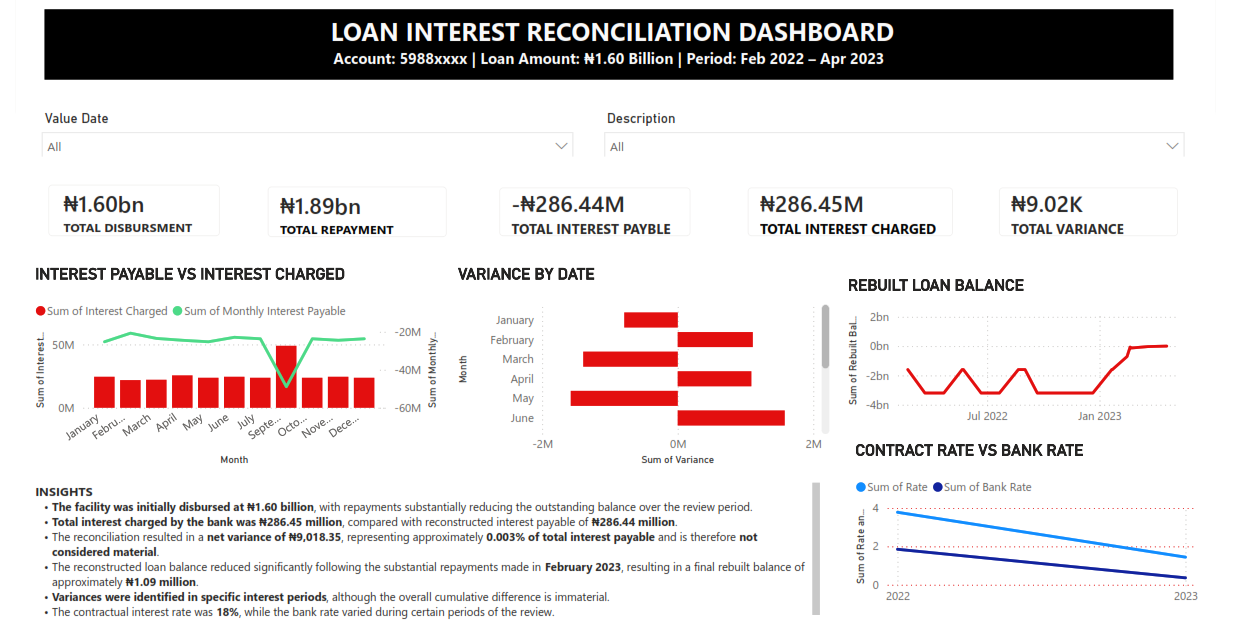

What the dashboard file says about the page in this screenshot:
{"tool":"powerbi","page":{"name":"Page 1","canvas":[1280,720],"ordinal":0},"visuals":[{"type":"cardVisual","fields":{"Data":["Sheet2.DISBURSMENT"]},"box":[18.3,221.3,217.7,89.3],"z":0},{"type":"cardVisual","fields":{"Data":["Sheet2.TOTAL REPAYMENT"]},"box":[251.9,222.6,225,88],"z":1000},{"type":"cardVisual","fields":{"Data":["Sheet2.Interest Payable"]},"box":[498.9,223.8,238.5,86.8],"z":2000},{"type":"cardVisual","fields":{"Data":["Sheet2.Interest Charged by Bank"]},"box":[764.3,223.8,253.1,86.8],"z":3000},{"type":"cardVisual","fields":{"Data":["Sheet2.TOTAL VARIANCE"]},"box":[1032.1,223.8,225,86.8],"z":4000},{"type":"textbox","box":[30.6,51.4,1204.5,74.6],"z":5000},{"type":"lineClusteredColumnComboChart","title":"INTEREST PAYABLE VS INTEREST CHARGED","fields":{"Category":["Sheet2.Value Date.Variation.Date Hierarchy.Month"],"Y":["Sum(Sheet2.Interest Charged)"],"Y2":["Sum(Sheet2.Monthly Interest Payable)"]},"box":[15.9,322.8,440.2,220.1],"z":6000},{"type":"lineChart","title":"REBUILT LOAN BALANCE","fields":{"Y":["Sum(Sheet2.Rebuilt Balance)"],"Category":["Sheet2.Value Date.Variation.Date Hierarchy.Year","Sheet2.Value Date.Variation.Date Hierarchy.Quarter","Sheet2.Value Date.Variation.Date Hierarchy.Month","Sheet2.Value Date.Variation.Date Hierarchy.Day"]},"box":[882.9,335.1,374.2,167.5],"z":7000},{"type":"clusteredBarChart","title":"VARIANCE BY DATE","fields":{"Y":["Sum(Sheet2.Variance)"],"Category":["Sheet2.Value Date.Variation.Date Hierarchy.Month","Sheet2.Value Date.Variation.Date Hierarchy.Day"]},"box":[467.1,322.8,406,220.1],"z":8000},{"type":"lineChart","title":"CONTRACT RATE VS BANK RATE","fields":{"Category":["Sheet2.Value Date.Variation.Date Hierarchy.Year","Sheet2.Value Date.Variation.Date Hierarchy.Quarter","Sheet2.Value Date.Variation.Date Hierarchy.Month","Sheet2.Value Date.Variation.Date Hierarchy.Day"],"Y":["Sum(Sheet2.Rate)","Sum(Sheet2.Bank Rate)"]},"box":[891.4,511.1,374.2,183.4],"z":9000},{"type":"slicer","fields":{"Values":["Sheet2.Value Date"]},"box":[18.3,154.1,587,53.8],"z":10000},{"type":"slicer","fields":{"Values":["Sheet2.Description"]},"box":[617.5,154.1,639.5,53.8],"z":11000},{"type":"textbox","box":[15.9,551.5,847.4,160.2],"z":12000}]}

Visuals, with their boxes on the page's 1280x720 design canvas (x1, y1, x2, y2). These are canvas units, not pixel positions in the 1234x644 screenshot, which may show the page scaled, cropped or inside an application window:
cardVisual - Sheet2.DISBURSMENT: (x1=18, y1=221, x2=236, y2=311)
cardVisual - Sheet2.TOTAL REPAYMENT: (x1=252, y1=223, x2=477, y2=311)
cardVisual - Sheet2.Interest Payable: (x1=499, y1=224, x2=737, y2=311)
cardVisual - Sheet2.Interest Charged by Bank: (x1=764, y1=224, x2=1017, y2=311)
cardVisual - Sheet2.TOTAL VARIANCE: (x1=1032, y1=224, x2=1257, y2=311)
textbox: (x1=31, y1=51, x2=1235, y2=126)
"INTEREST PAYABLE VS INTEREST CHARGED" lineClusteredColumnComboChart: (x1=16, y1=323, x2=456, y2=543)
"REBUILT LOAN BALANCE" lineChart: (x1=883, y1=335, x2=1257, y2=503)
"VARIANCE BY DATE" clusteredBarChart: (x1=467, y1=323, x2=873, y2=543)
"CONTRACT RATE VS BANK RATE" lineChart: (x1=891, y1=511, x2=1266, y2=694)
slicer - Sheet2.Value Date: (x1=18, y1=154, x2=605, y2=208)
slicer - Sheet2.Description: (x1=618, y1=154, x2=1257, y2=208)
textbox: (x1=16, y1=552, x2=863, y2=712)
